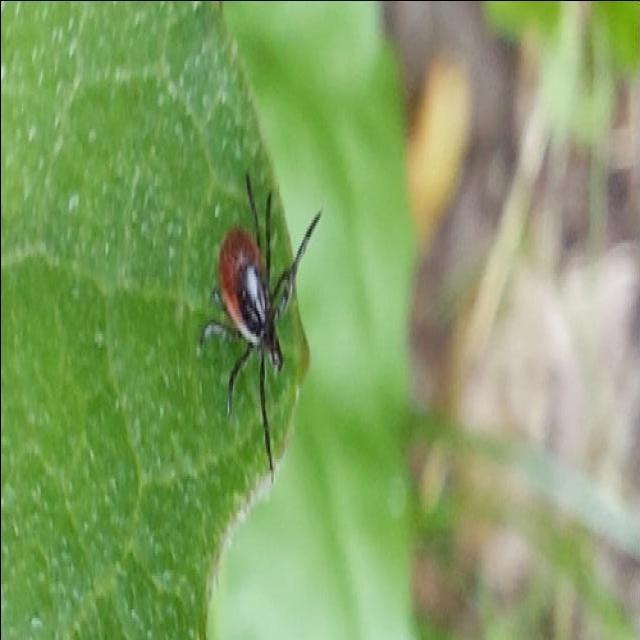Ixodes Ricinus-F: (198, 174, 323, 475)
